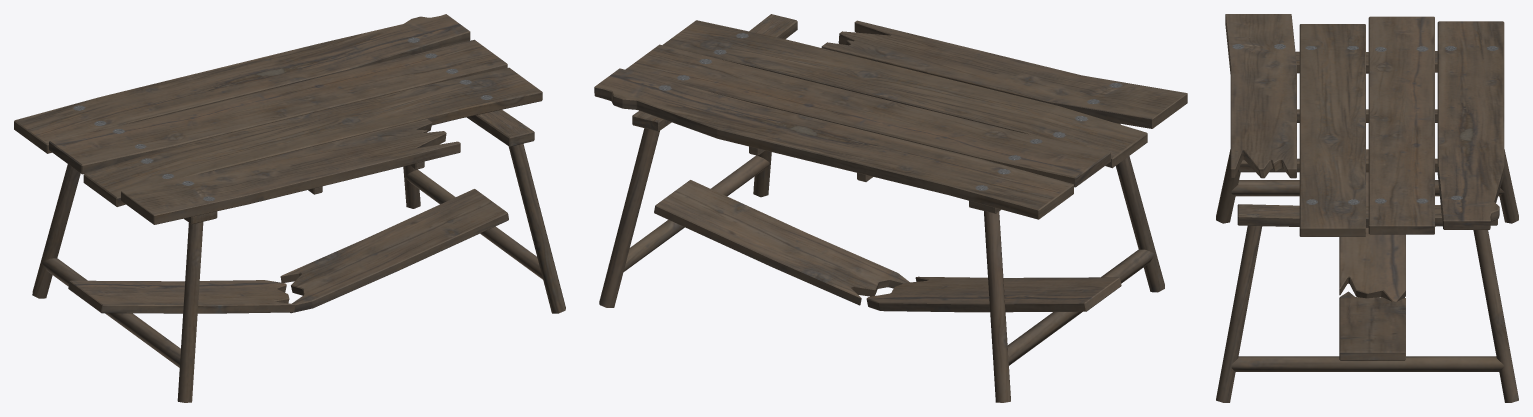
File: table.glb
The picture shows the model from 3 angles, left to right: view 1: azimuth 30°, elevation 25°; view 2: azimuth 150°, elevation 25°; view 3: azimuth 270°, elevation 25°; orthographic projection. The views are drawn at different scales.
Visible parts, largest first — view 1: pCube2; view 2: pCube2; view 3: pCube2.
Part boxes in pixels (<box>): pCube2: <box>14,14,565,402</box>; pCube2: <box>594,14,1187,402</box>; pCube2: <box>1216,14,1518,402</box>.
Size of the model in its own units: 180 by 78.42 by 111.
Materials: 1 (1 with a texture image).
